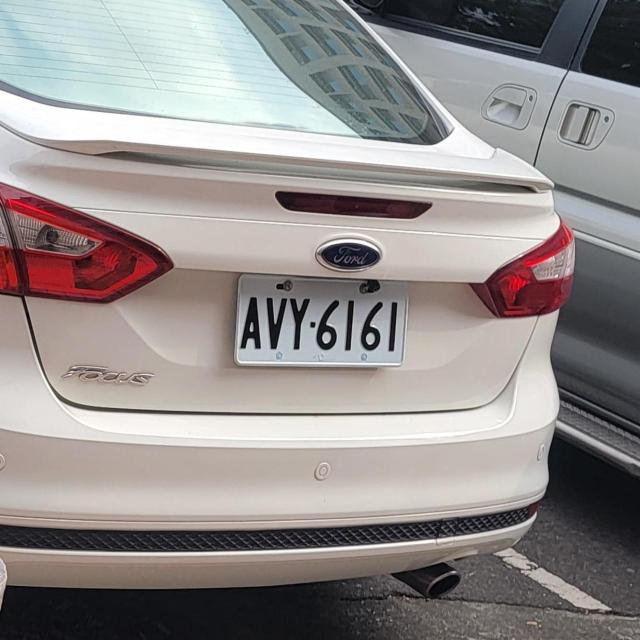W: (224, 264, 418, 381)
